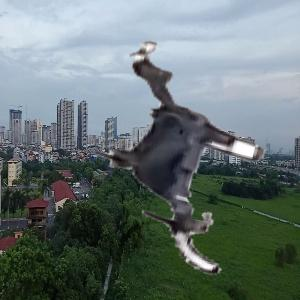drone: (61, 40, 295, 274)
